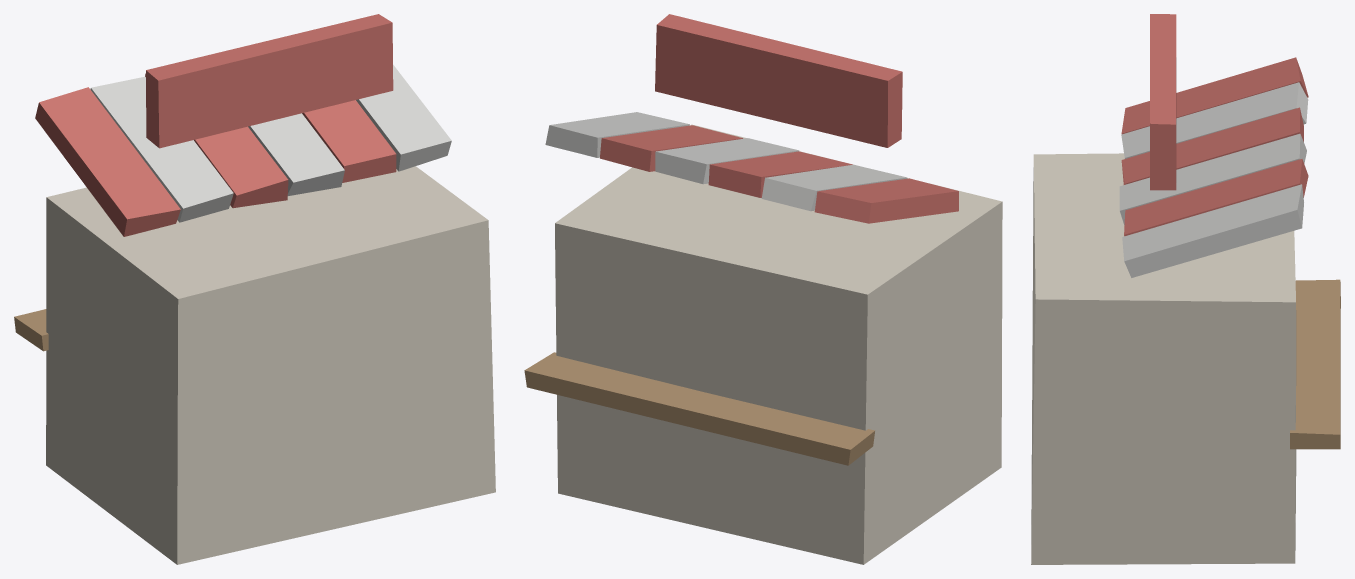
Rendered from burgerstall.fbx.
3 renders of one model, left to right at view 1: azimuth 30°, elevation 25°; view 2: azimuth 150°, elevation 25°; view 3: azimuth 270°, elevation 25°, orthographic. The views are drawn at different scales.
Parts seen in each view (by area): view 1: BurgerStall; view 2: BurgerStall; view 3: BurgerStall.
Part boxes in pixels (box(x1,y1,x2,y2)): BurgerStall: box(14, 14, 495, 564); BurgerStall: box(524, 14, 1002, 564); BurgerStall: box(1031, 14, 1340, 564).
Size of the model in its own units: 2.53 by 3.21 by 2.14.
